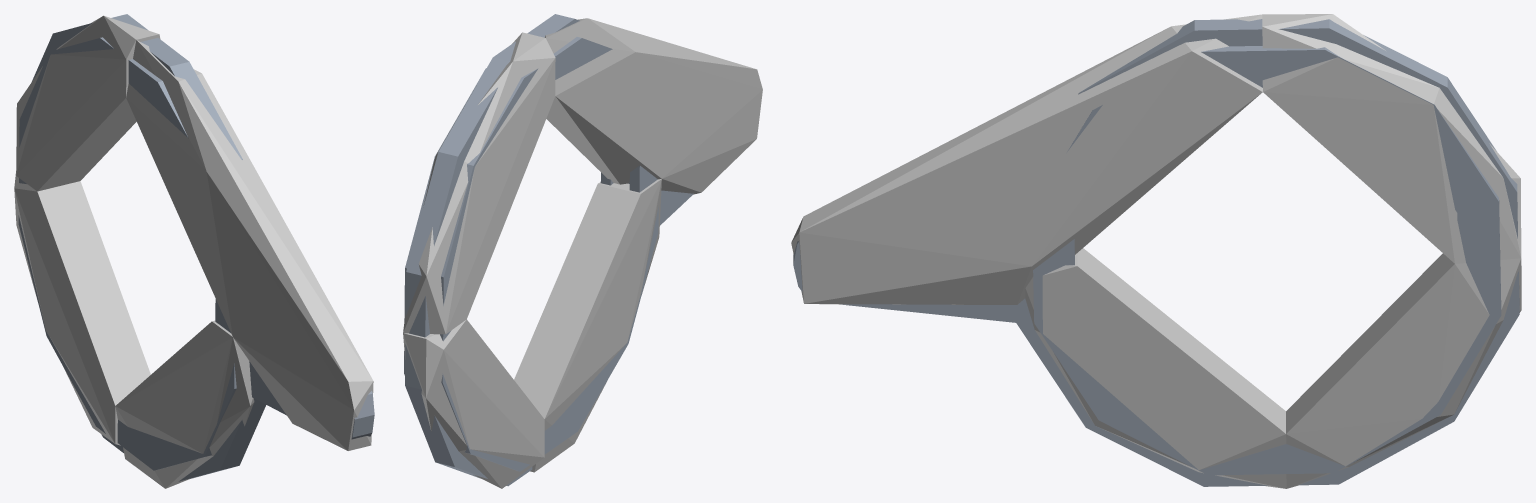
The model's file is SM_Prop_Telescope_01_Lens_01.fbx.
3 renders of one model, left to right at view 1: azimuth 30°, elevation 25°; view 2: azimuth 150°, elevation 25°; view 3: azimuth 270°, elevation 25°, orthographic. The views are drawn at different scales.
Parts seen in each view (by area): view 1: SM_Prop_Telescope_01_Lens_01_ConvexHulls, SM_Prop_Telescope_01_Lens_01; view 2: SM_Prop_Telescope_01_Lens_01_ConvexHulls, SM_Prop_Telescope_01_Lens_01; view 3: SM_Prop_Telescope_01_Lens_01_ConvexHulls, SM_Prop_Telescope_01_Lens_01.
Boxes of the visible parts, x1,y1,x2,y2 form: SM_Prop_Telescope_01_Lens_01_ConvexHulls: [14, 15, 373, 488]; SM_Prop_Telescope_01_Lens_01: [18, 14, 374, 481]; SM_Prop_Telescope_01_Lens_01_ConvexHulls: [403, 18, 762, 488]; SM_Prop_Telescope_01_Lens_01: [404, 14, 693, 486]; SM_Prop_Telescope_01_Lens_01_ConvexHulls: [791, 14, 1521, 488]; SM_Prop_Telescope_01_Lens_01: [793, 19, 1519, 486].
Bounding box in the file's own units: 12.26 × 166 × 116.
2 materials, 1 textured.
